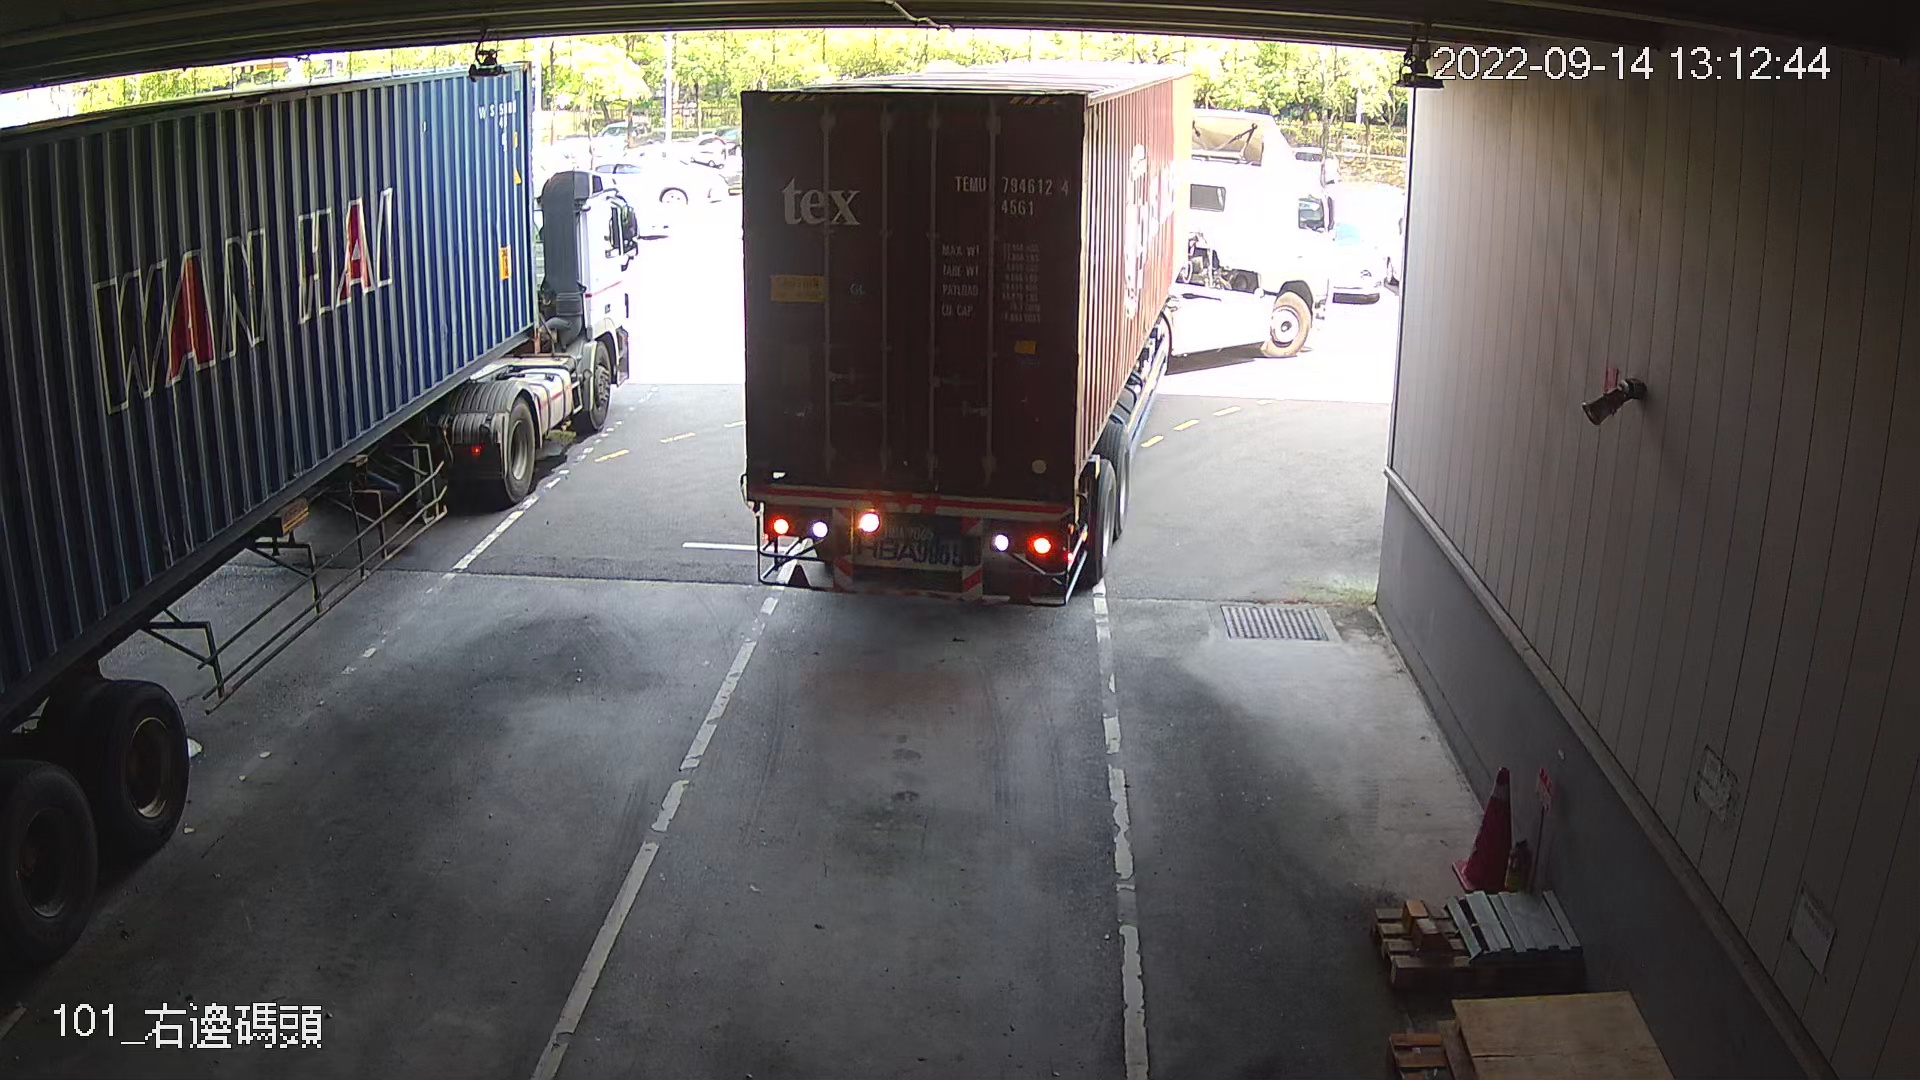container: (948, 166, 1075, 223)
